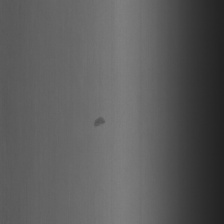oil_spot: (92, 109, 111, 135)
